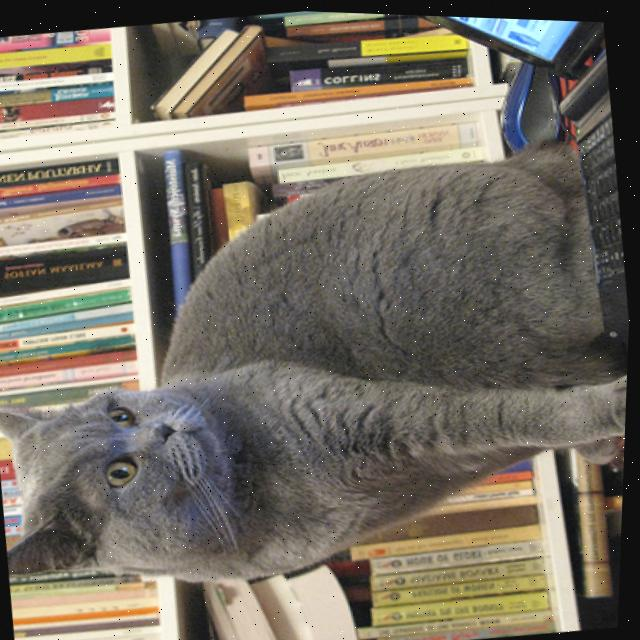British Shorthair: (0, 118, 637, 620)
